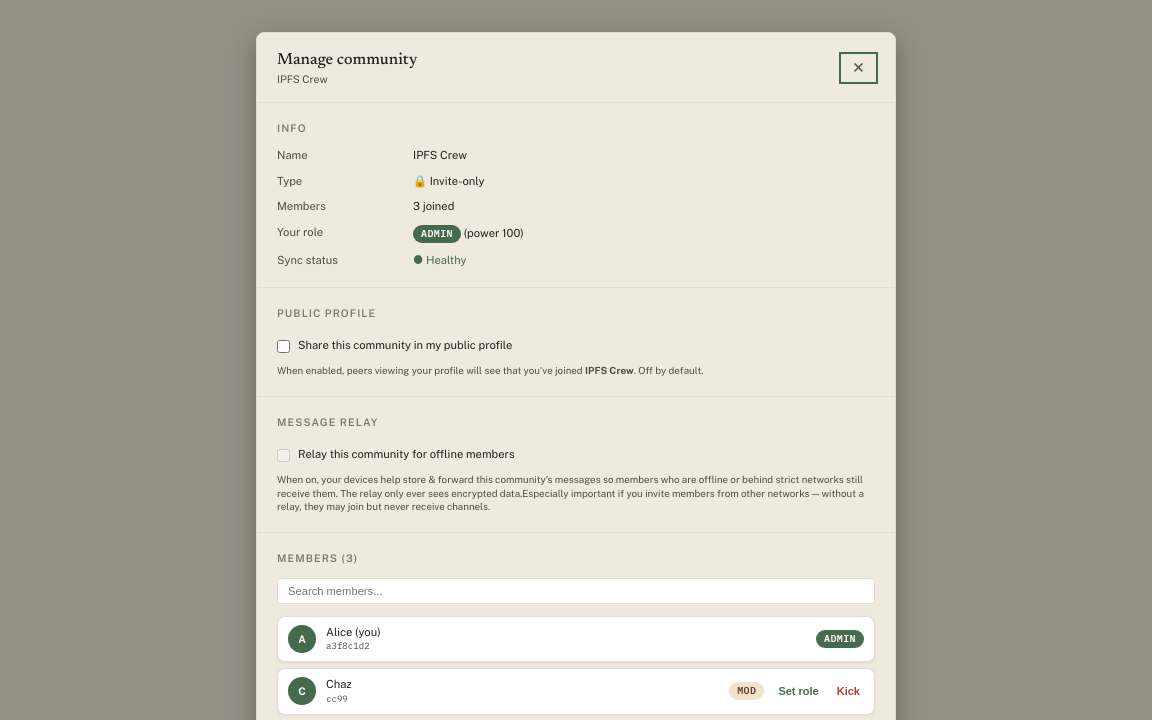
Test: member-action confirmation dialogs resolve names through the ladder (ZEB-957) › admin-promote confirmation shows the resolved nickname, not the roster name
Click the button with class "set-role" at [799, 691], box 774,683 -> 823,699
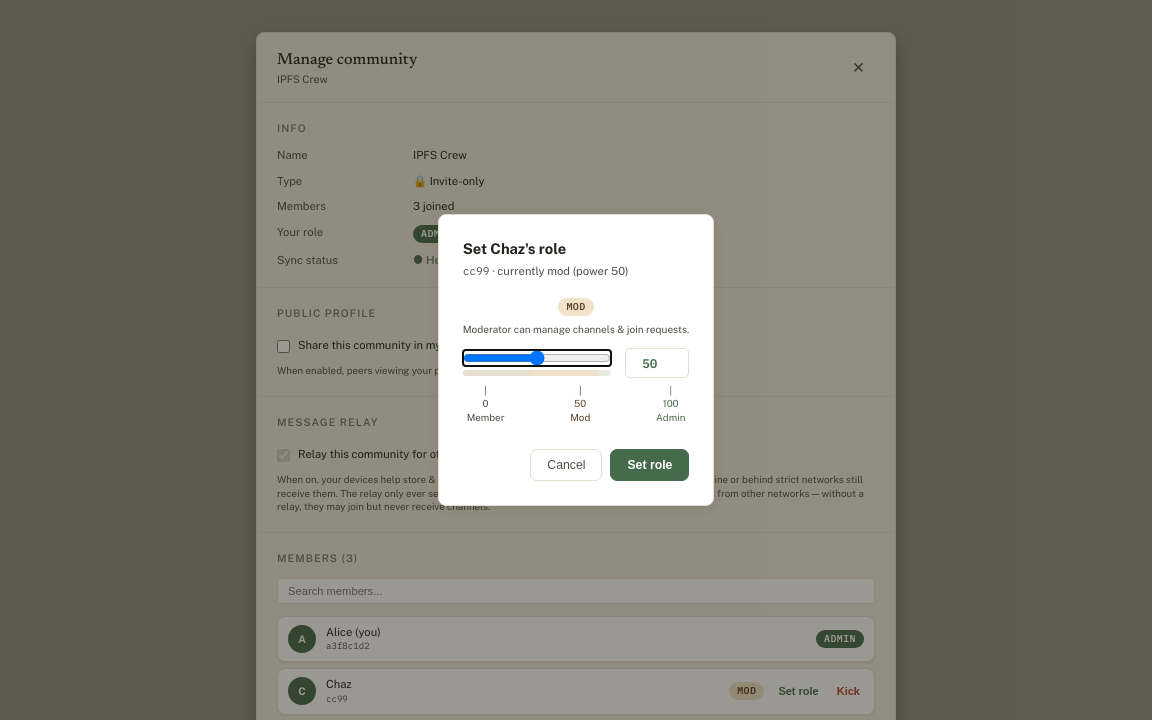
Replace the text in the number field named "Power level" with "100" at [657, 363], box 625,348 -> 689,378
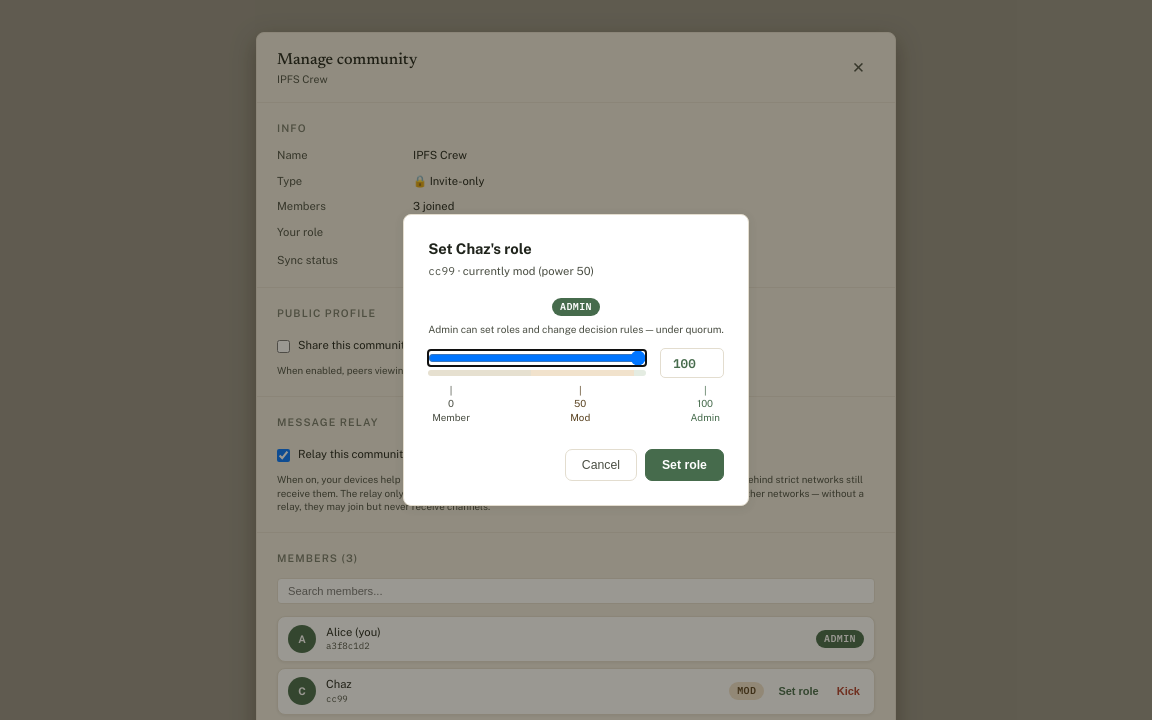
Click the button with class "confirm-btn" at [684, 465], box 645,449 -> 724,481
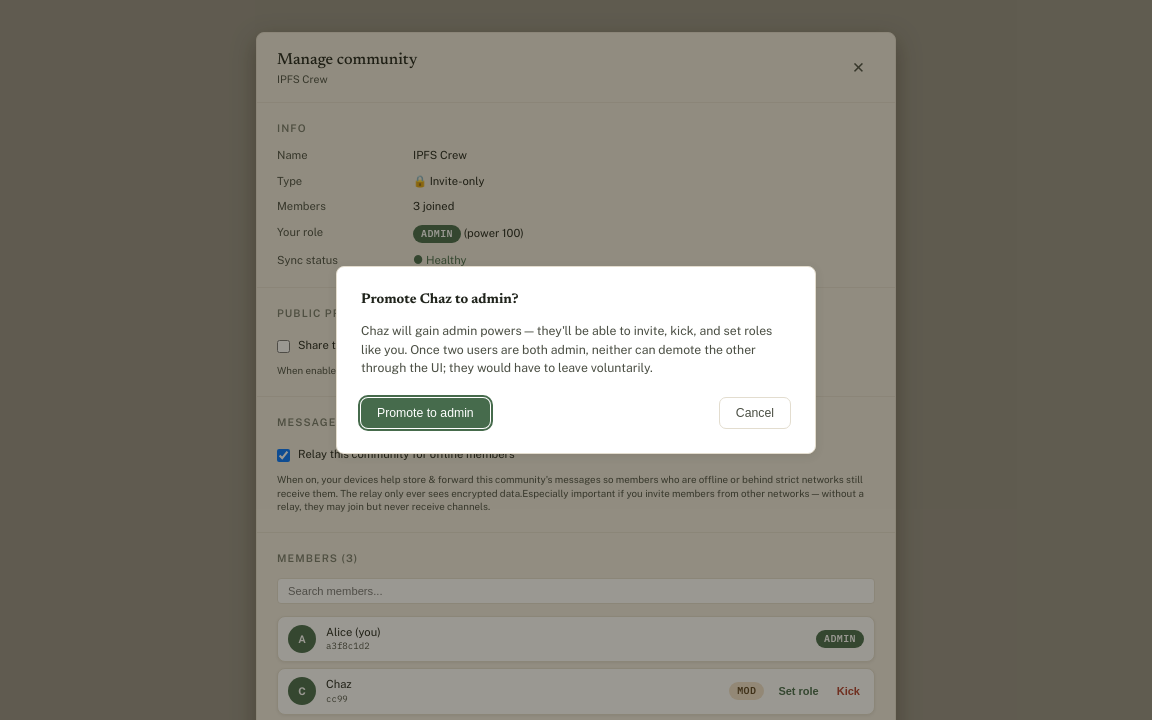
Expected: the heading "Promote Chaz to admin?" is shown, 361,293 -> 518,307
